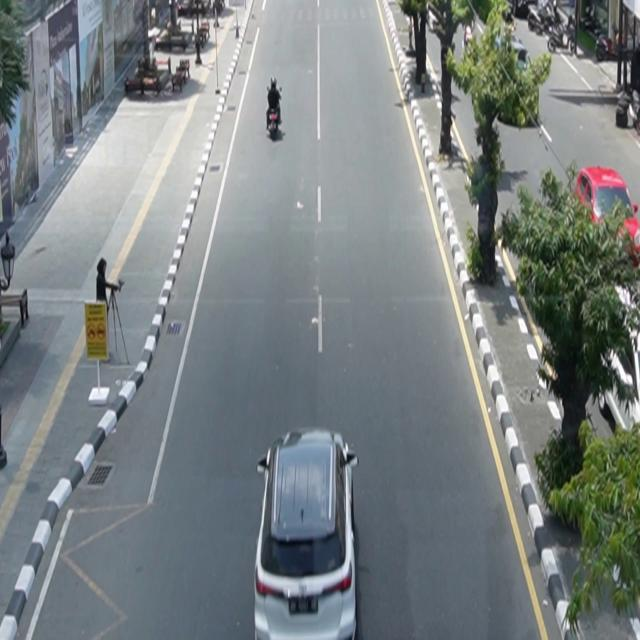car: (254, 428, 360, 640), (575, 166, 640, 269)
